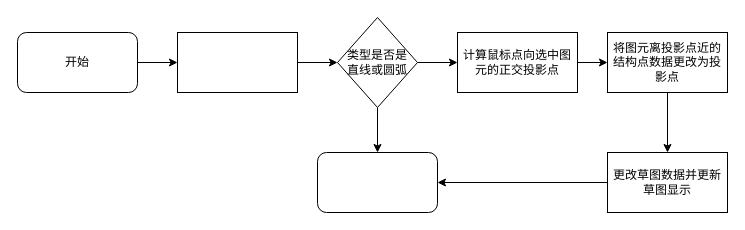
The diagram is 745 pixels wide and 230 high, and some of its shapes have lost their labels. Here are the shapes that lost their labels. From the top down, the centre of each, then its label:
At pixel 237 62: "选中图元".
At pixel 377 182: "结束".
